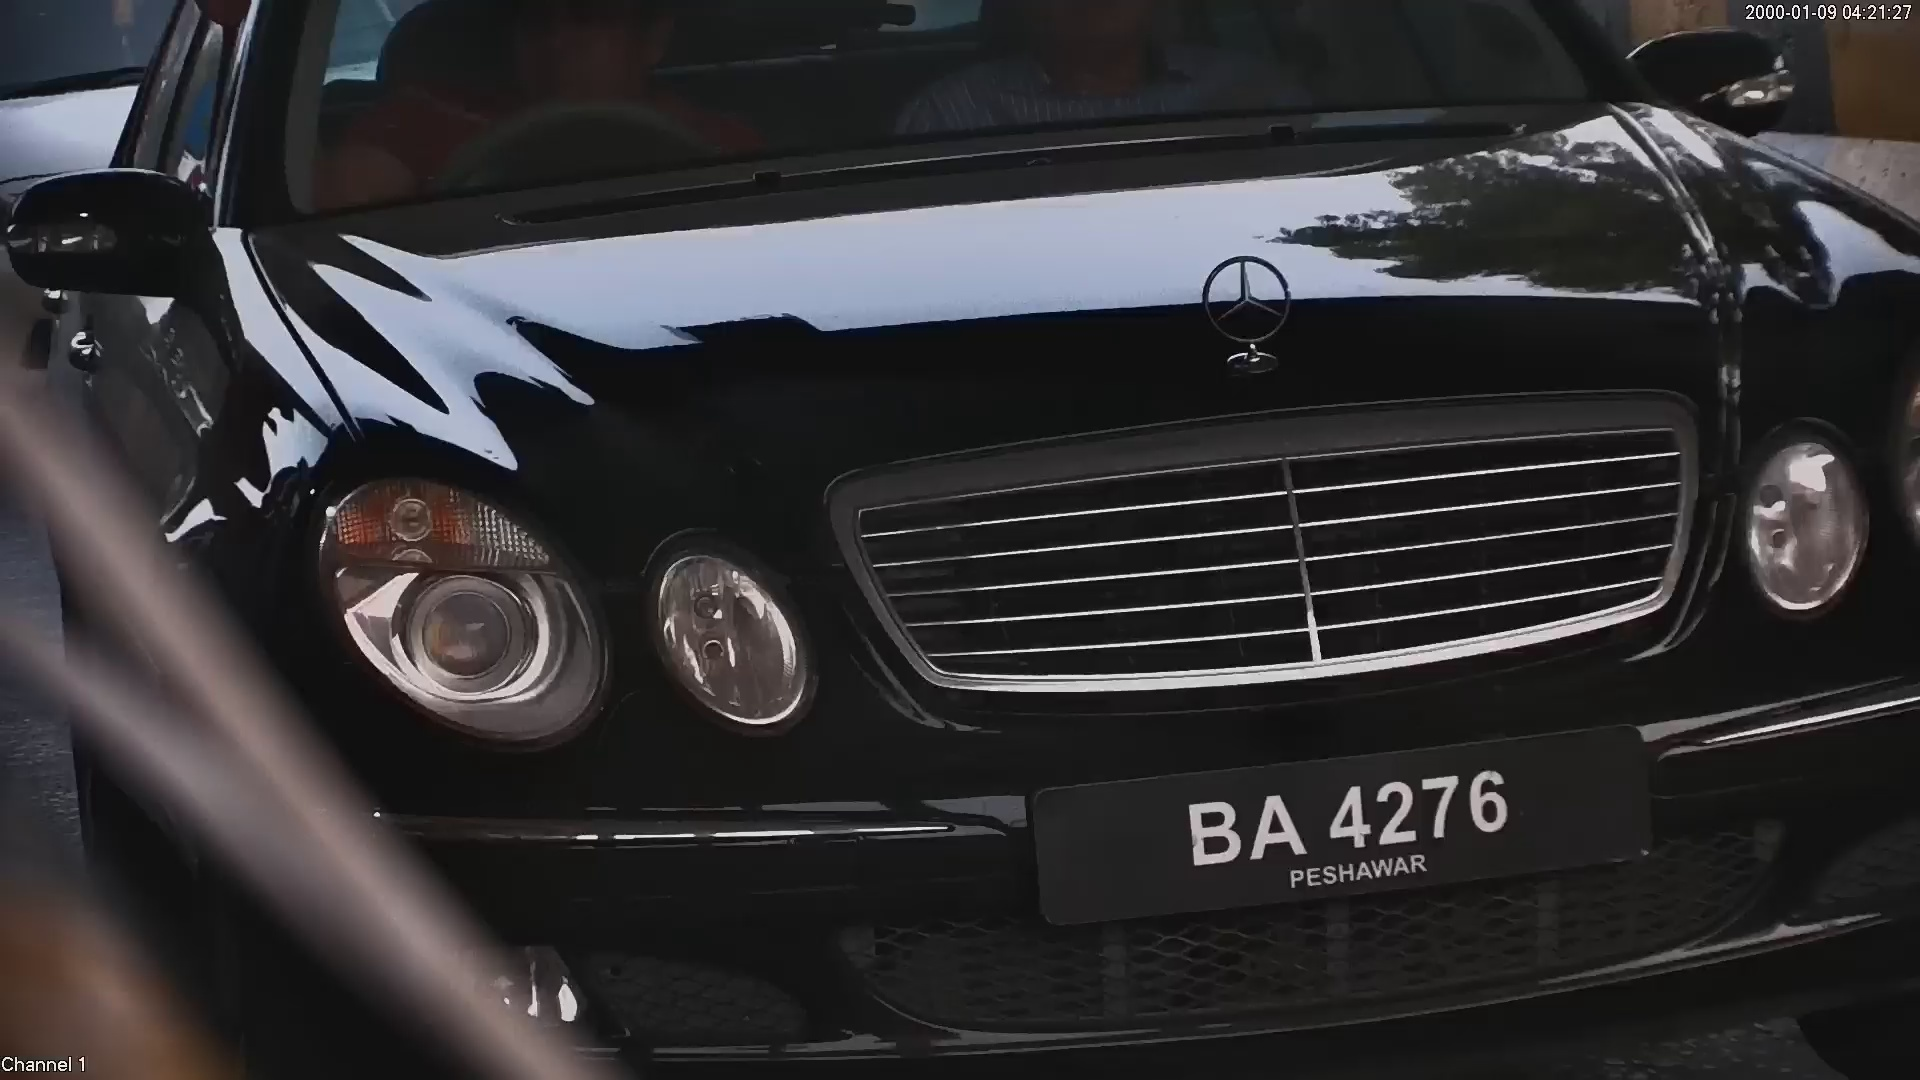Number_Plate: (1004, 740, 1647, 896)
Undefined: (313, 483, 789, 742)
